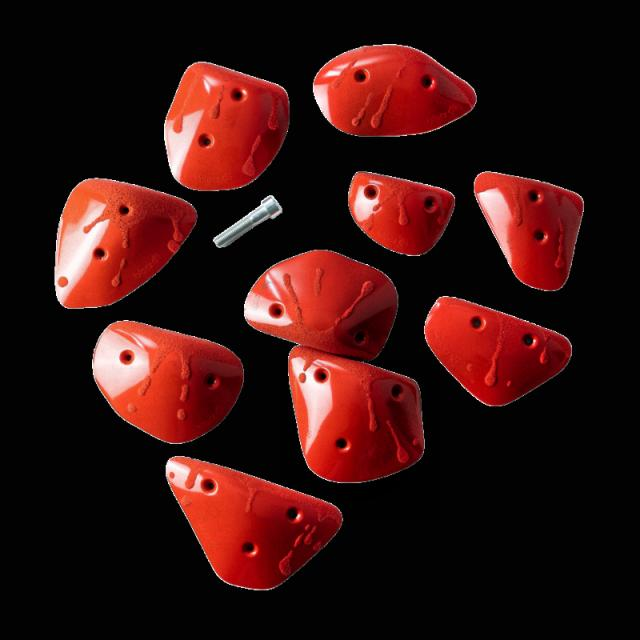Hold: (168, 458, 343, 600), (280, 346, 436, 486), (86, 318, 247, 448), (48, 173, 197, 312), (237, 237, 395, 363), (422, 293, 578, 414), (146, 56, 286, 190), (466, 163, 596, 295), (312, 40, 484, 134), (348, 154, 462, 257)
